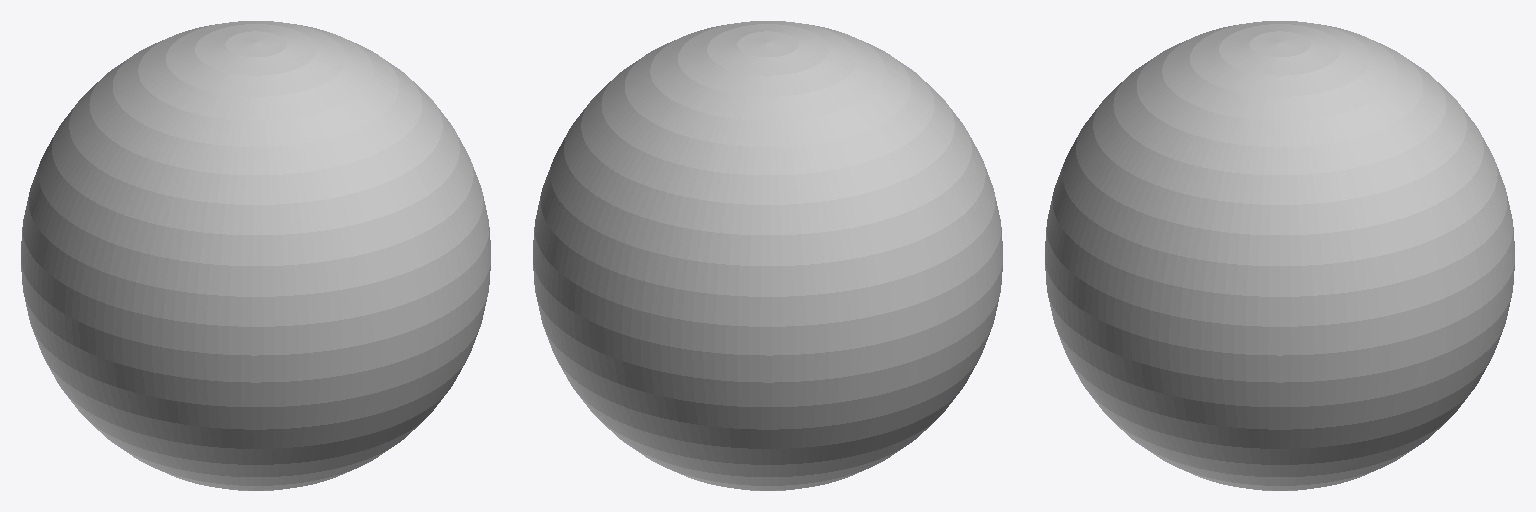
Rendered from Neptune.obj.
The picture shows the model from 3 angles: view 1: azimuth 30°, elevation 25°; view 2: azimuth 150°, elevation 25°; view 3: azimuth 270°, elevation 25°; orthographic projection.
Parts seen in each view (by area): view 1: Sphere_Material.002_0.004; view 2: Sphere_Material.002_0.004; view 3: Sphere_Material.002_0.004.
Boxes of the visible parts, x1=… form: Sphere_Material.002_0.004: x1=21, y1=21, x2=490, y2=490; Sphere_Material.002_0.004: x1=533, y1=21, x2=1002, y2=490; Sphere_Material.002_0.004: x1=1045, y1=21, x2=1514, y2=490.
Size of the model in its own units: 30.6 by 30.6 by 30.6.